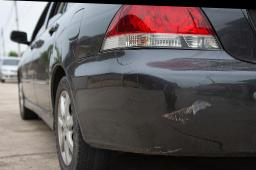Bumper: (118, 46, 256, 160)
